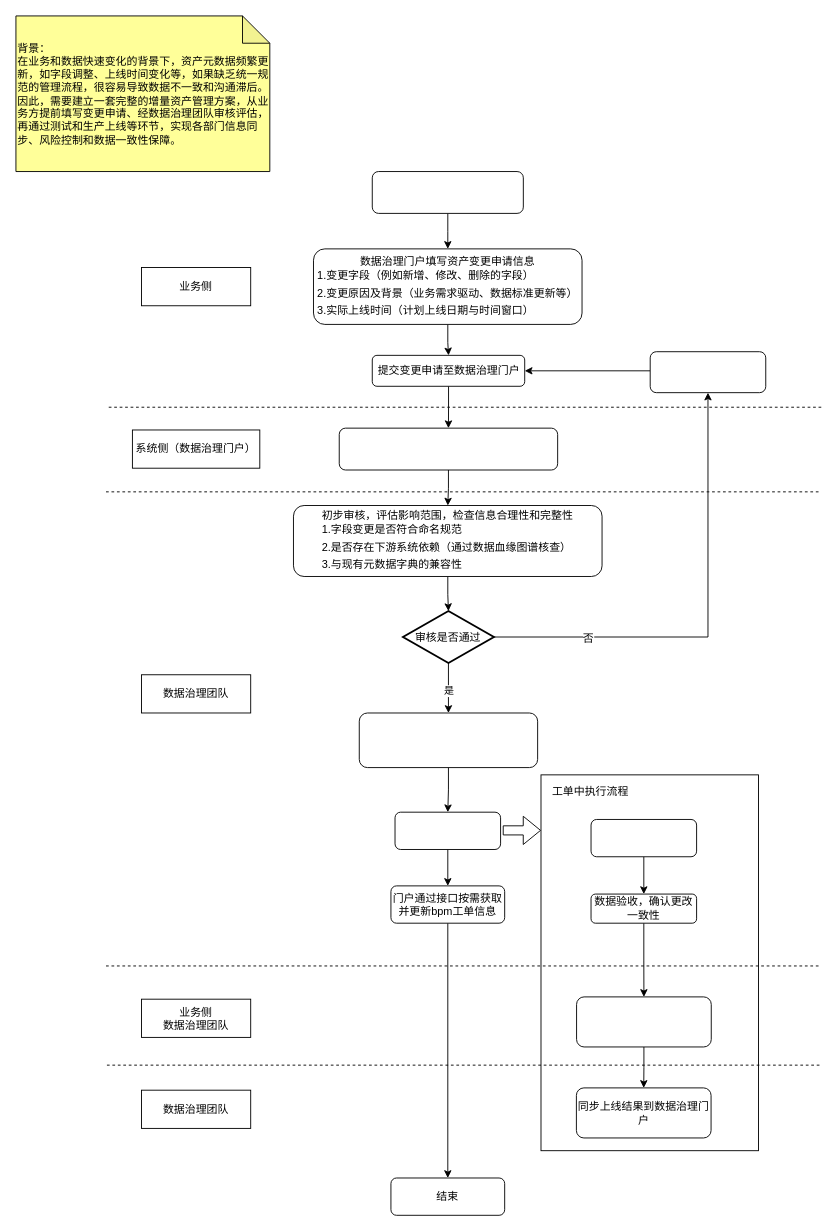
This 840x1231 diagram has some shape labels left out. The shapes that lost their labels are listed below. From the top down, each one's box as (x1, y1, x2, y2) in pixels, then its label:
(371, 171, 523, 213): 资产元数据发现需要变更 （包括 业务系统升级/业务规则变更/数据源结构调整 ）
(649, 351, 766, 393): 反馈给业务方 要求补充或修改申请单
(338, 427, 558, 470): 系统自动通知数据治理团队及相关审批人员（可通过短信提醒等方式）
(358, 712, 538, 768): 确定提bpm数据接入工单 (用户只需要在门户点击确认即可，门户通过bpm接口， 自动创建工单)
(394, 811, 501, 849): BPM工单流转
(590, 819, 697, 857): 开发实施，根据变更信息同步修改开发
(576, 996, 711, 1047): 同步上线，大数据平台和业务系统同步进行上线更改
